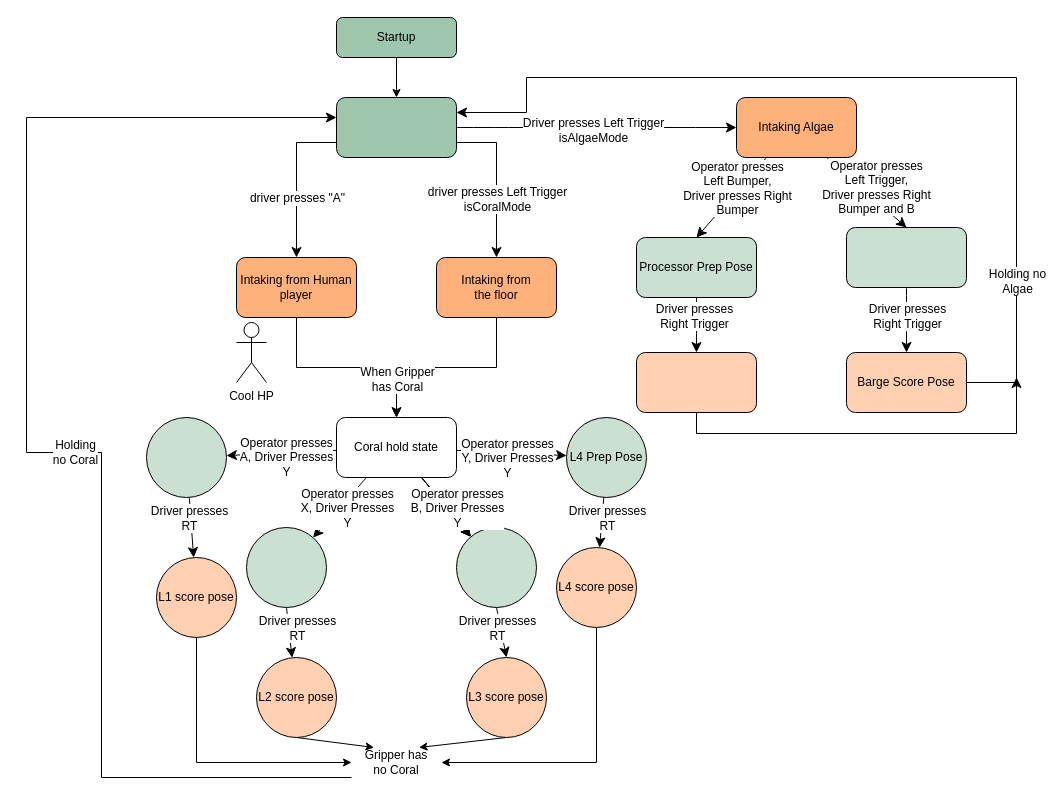
This 1063x805 diagram has some shape labels left out. Here are the shapes that lost their labels. From the top down, the centre of each, then its label:
At (396,127): "Stow".
At (906,257): "Barge Prep Pose".
At (696,382): "Processor Score Pose".
At (186,457): "L1 Prep Pose".
At (286,567): "L2 Prep Pose".
At (496,567): "L3 Prep Pose".
